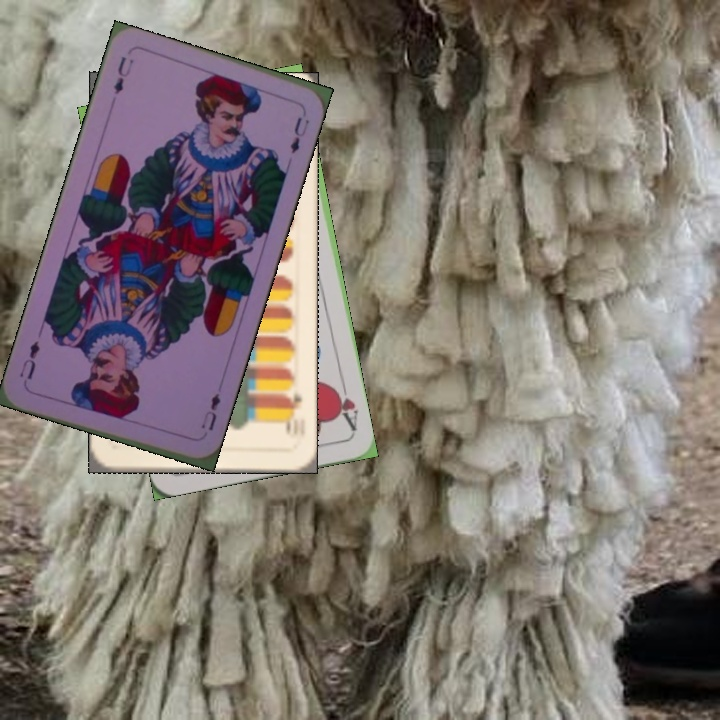E10: (282, 388, 304, 437)
EU: (109, 52, 136, 97), (197, 389, 223, 434)
HA: (329, 376, 361, 434)
